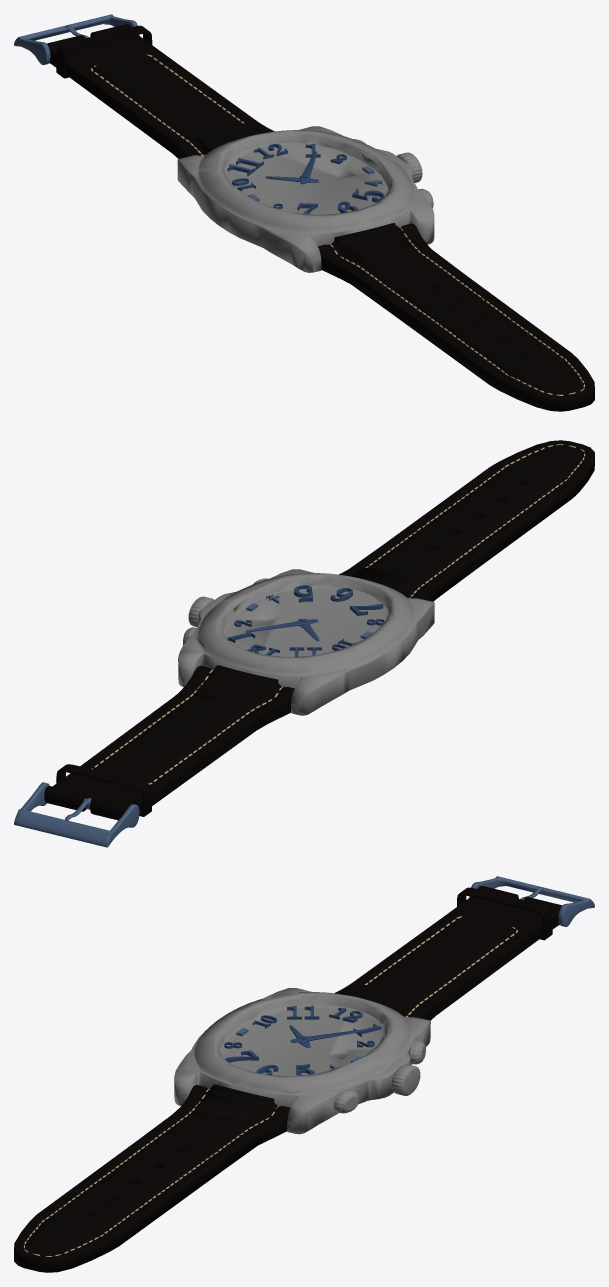
Rendered from classic_watch2.fbx.
3 views of the same model, one above another, from view 1: azimuth 30°, elevation 25°; view 2: azimuth 150°, elevation 25°; view 3: azimuth 330°, elevation 25° (orthographic).
Visible parts, largest first — view 1: classic watch033, classic watch035, classic watch031, classic watch036, classic watch030; view 2: classic watch033, classic watch031, classic watch035, classic watch036, classic watch030, classic watch032; view 3: classic watch035, classic watch033, classic watch031, classic watch036, classic watch030, classic watch029.
Part boxes in pixels (x1,y1,x2,y2): classic watch033: (177,126,434,272); classic watch035: (318,223,594,411); classic watch031: (46,24,274,158); classic watch036: (14,14,139,65); classic watch030: (330,227,584,395); classic watch033: (178,569,434,715); classic watch031: (44,665,294,820); classic watch035: (339,440,594,601); classic watch036: (14,782,139,847); classic watch030: (365,444,585,598); classic watch032: (91,669,282,784); classic watch035: (14,1084,290,1272); classic watch033: (174,988,430,1134); classic watch031: (334,886,561,1020); classic watch036: (469,876,594,926); classic watch030: (23,1089,279,1256); classic watch029: (391,1064,420,1095).
Bounding box in the file's own units: 155 × 32.68 × 701.
